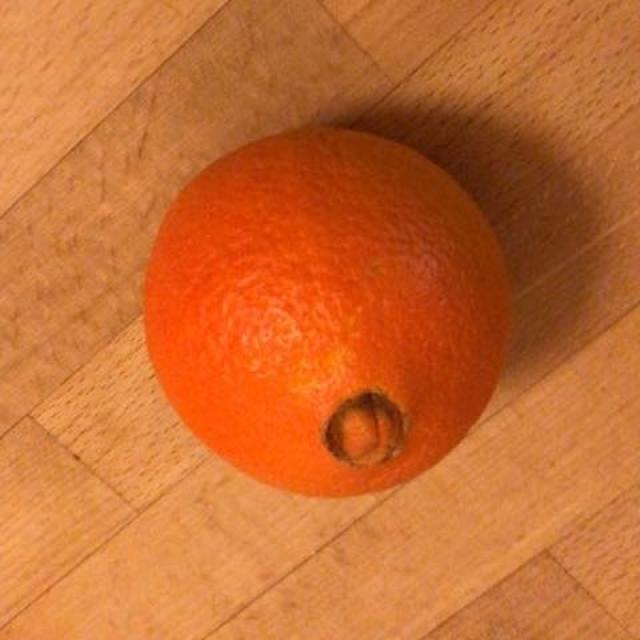Orange: (124, 110, 528, 512)
